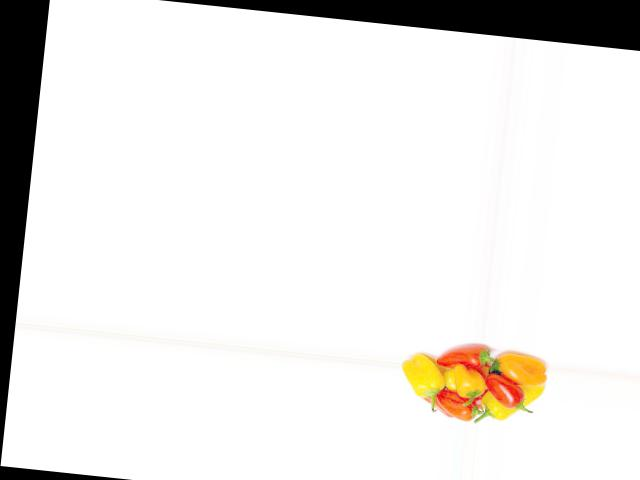bell_pepper: (479, 378, 544, 428)
